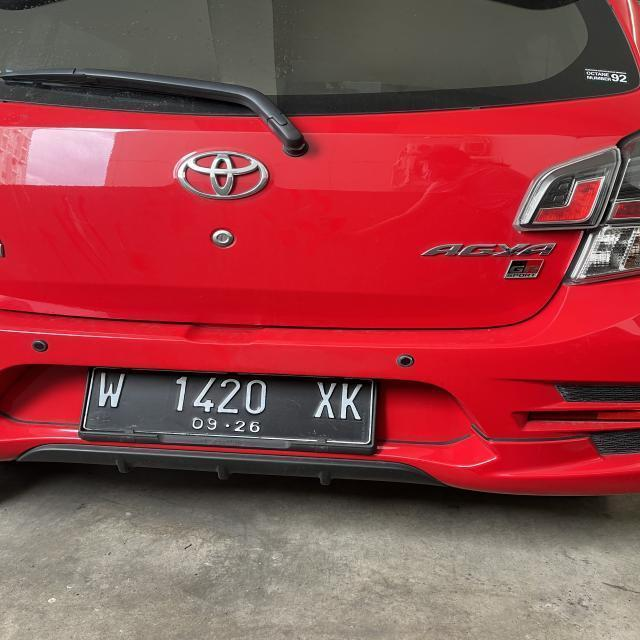0: (245, 377, 268, 417)
1: (173, 372, 191, 412)
2: (218, 376, 241, 414)
4: (195, 376, 217, 416)
K: (340, 380, 363, 424)
W: (98, 368, 125, 412)
X: (313, 379, 337, 421)
